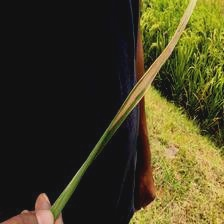Leaf_Blast: (110, 3, 190, 130)
